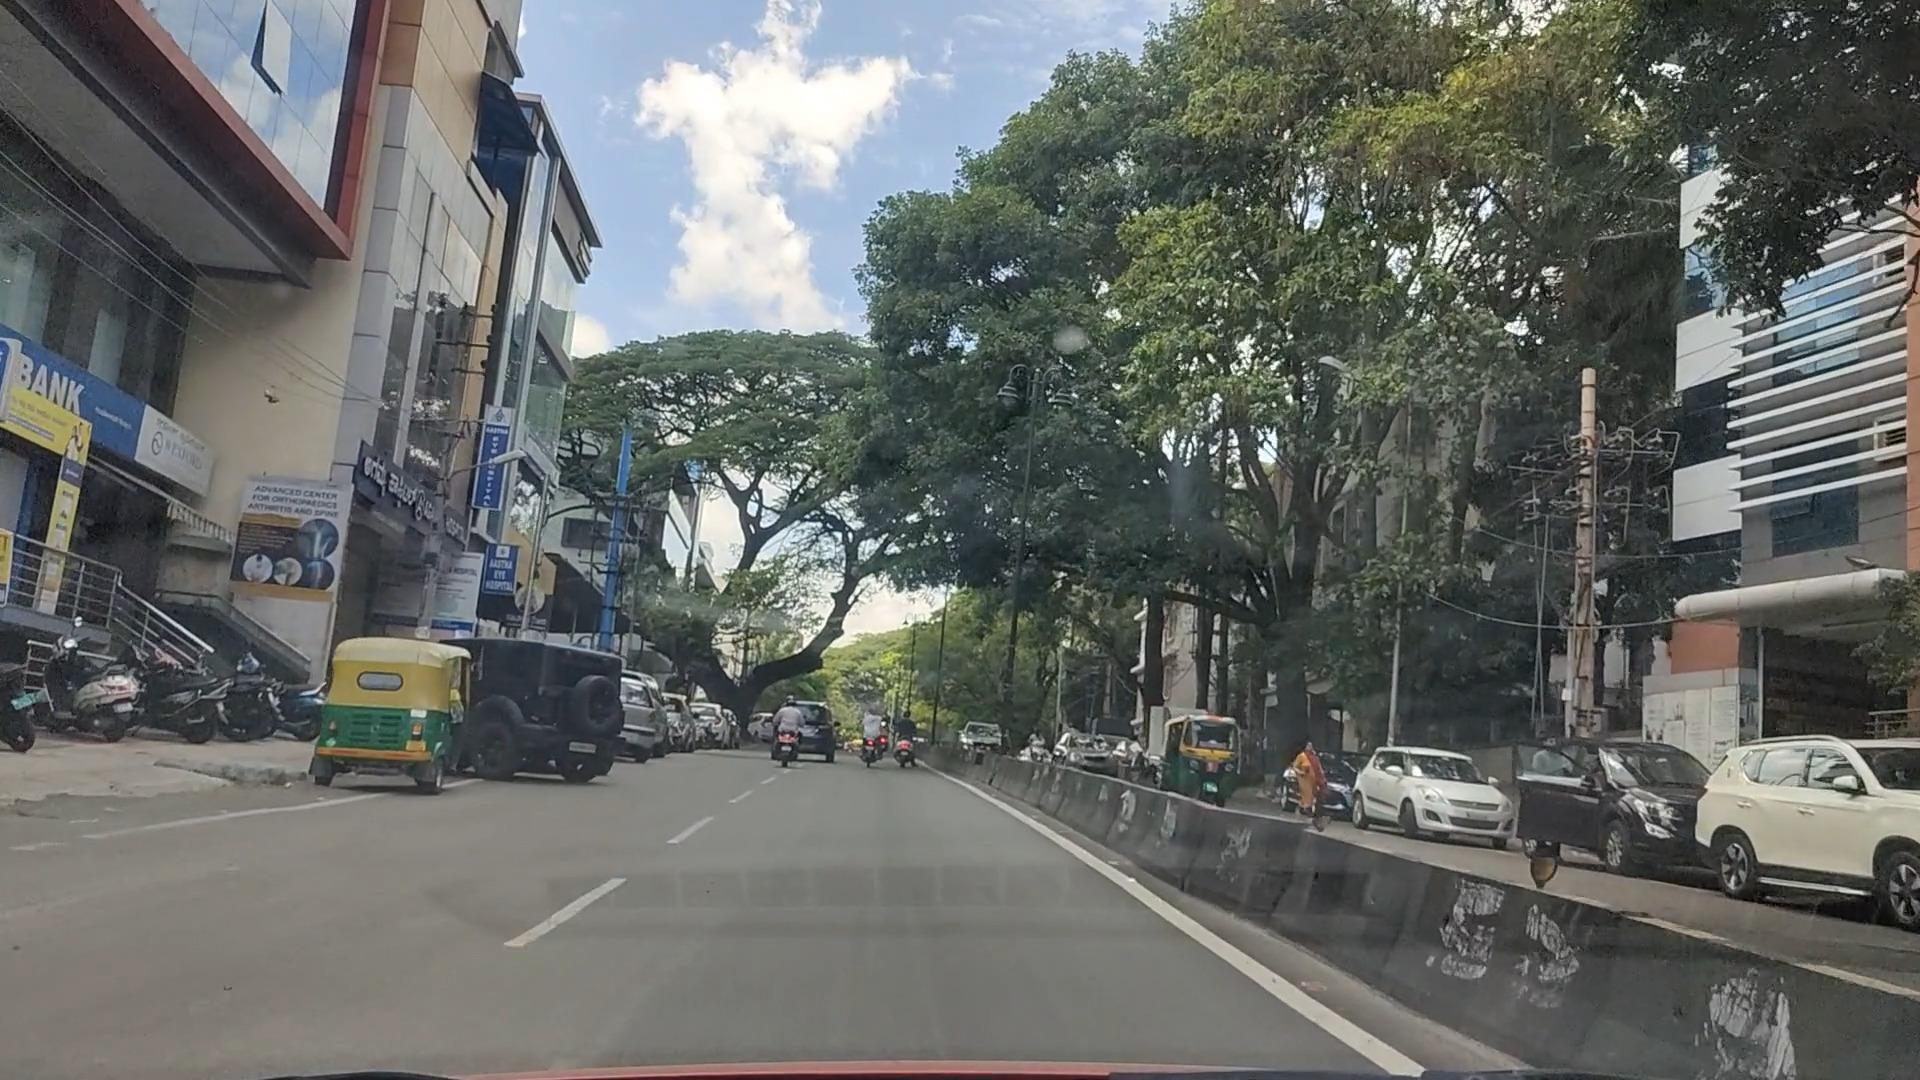LMV: (323, 646, 479, 790)
